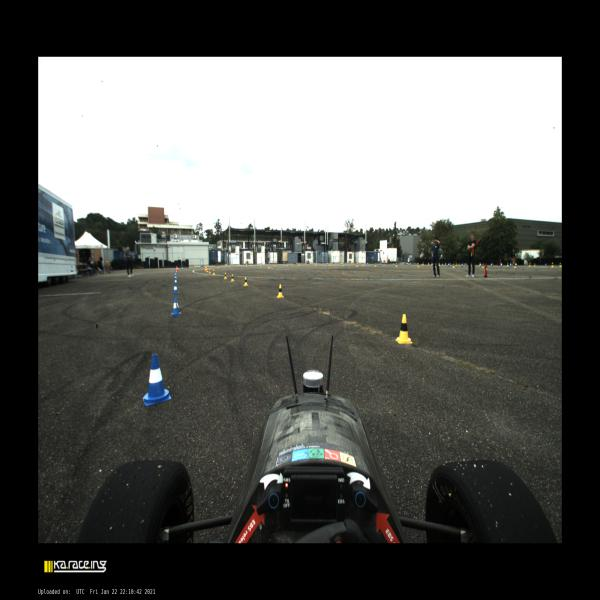blue_cone: (143, 354, 171, 406), (171, 298, 181, 316), (172, 283, 178, 294), (174, 278, 178, 286), (479, 263, 482, 267), (490, 263, 493, 266), (500, 263, 502, 267), (461, 263, 463, 267), (448, 263, 450, 267), (379, 262, 381, 266), (393, 262, 395, 266), (181, 267, 183, 270), (310, 262, 312, 265), (408, 263, 410, 266), (406, 262, 408, 265), (445, 263, 447, 266), (465, 263, 467, 266), (190, 266, 191, 270), (198, 266, 200, 268), (278, 262, 279, 266), (295, 263, 297, 265), (327, 262, 328, 266), (366, 263, 368, 265), (414, 263, 416, 265), (510, 263, 511, 266), (410, 262, 411, 265), (464, 263, 465, 266), (341, 263, 342, 265), (450, 263, 451, 265), (545, 264, 546, 266)
large_orange_cone: (205, 265, 207, 272), (176, 266, 178, 272)
yellow_cone: (396, 314, 412, 344), (277, 284, 283, 298), (244, 277, 248, 286), (231, 274, 234, 282), (224, 272, 227, 279), (212, 270, 216, 275), (551, 262, 554, 267), (559, 262, 562, 267), (452, 263, 455, 268), (209, 268, 211, 274), (514, 264, 517, 268), (529, 262, 531, 267), (506, 262, 508, 267), (482, 263, 484, 268), (396, 262, 398, 266), (374, 262, 376, 266), (442, 262, 444, 266), (458, 262, 460, 266), (298, 263, 300, 266), (315, 263, 317, 266), (274, 263, 276, 266), (428, 262, 430, 265), (534, 263, 536, 266), (217, 266, 219, 268), (229, 264, 230, 268), (207, 268, 208, 272), (356, 264, 358, 266), (211, 266, 213, 268), (246, 264, 248, 266), (439, 262, 440, 266), (418, 264, 419, 267), (342, 263, 343, 266), (330, 263, 331, 266), (260, 264, 261, 267), (287, 263, 288, 266), (422, 262, 423, 265), (423, 262, 424, 265), (431, 262, 432, 265), (456, 263, 457, 266)
